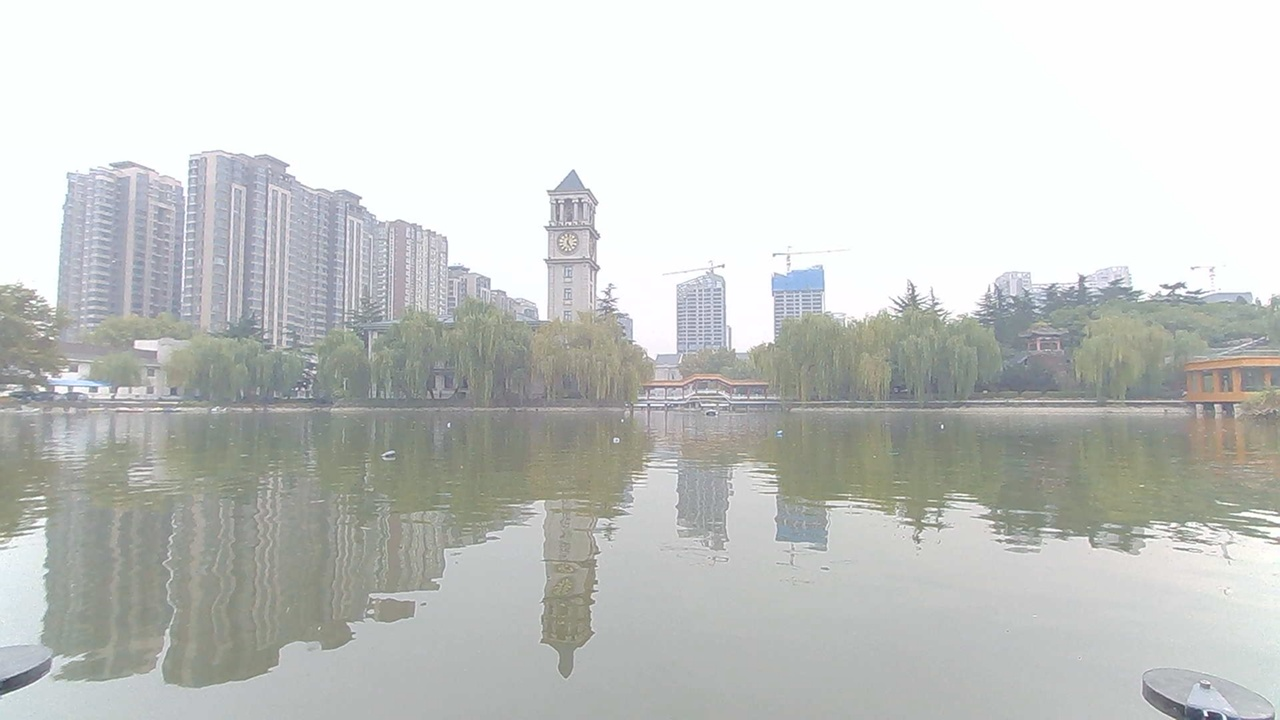bottle: (371, 439, 408, 468), (427, 410, 464, 439), (759, 425, 793, 452), (923, 411, 953, 437), (598, 429, 635, 450), (609, 413, 638, 435)
